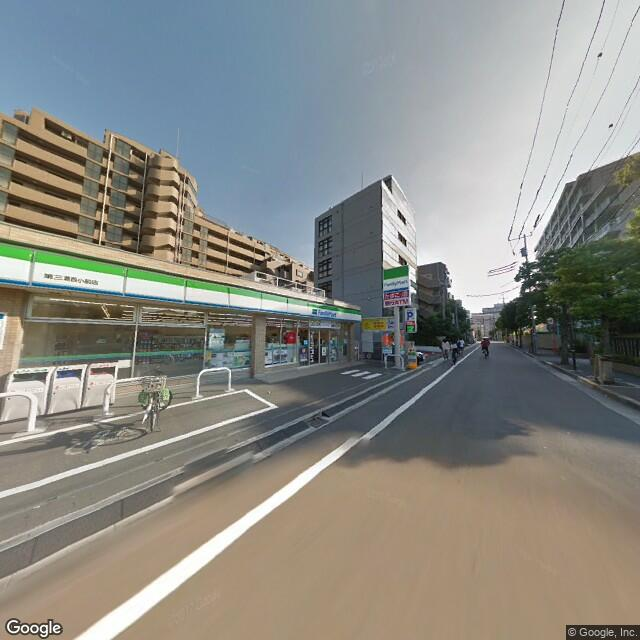family_mart: (2, 236, 363, 327), (382, 263, 412, 298), (309, 305, 342, 321)
